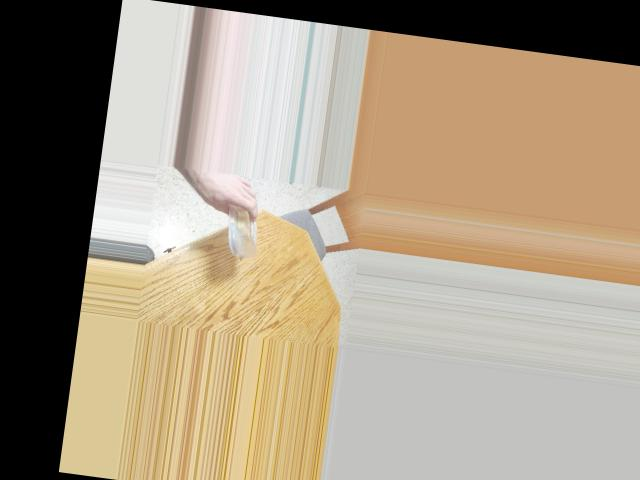cheese: (198, 186, 275, 261)
